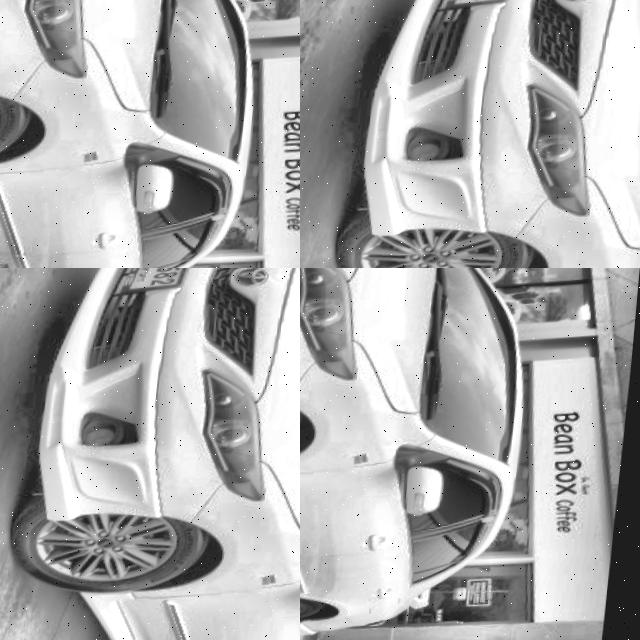license-plate: (0, 0, 300, 268)
